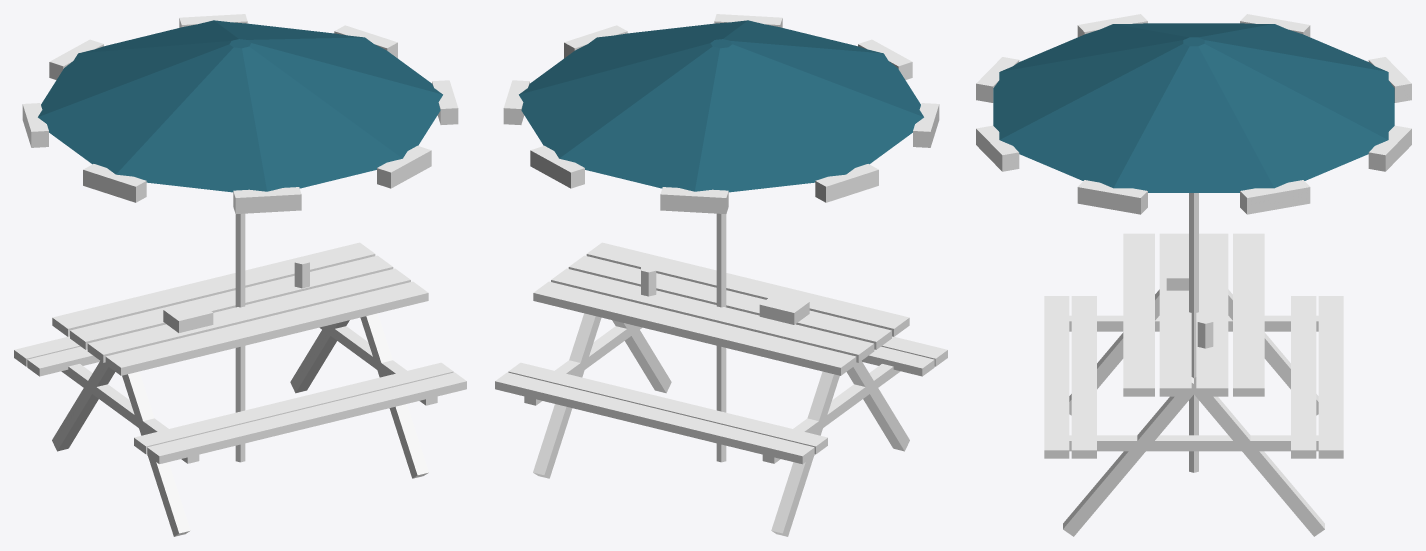
File: decor_picnic.obj
3 views of the same model, side by side, from view 1: azimuth 30°, elevation 25°; view 2: azimuth 150°, elevation 25°; view 3: azimuth 270°, elevation 25° (orthographic). The views are drawn at different scales.
Parts seen in each view (by area): view 1: Body; view 2: Body; view 3: Body.
Boxes of the visible parts, left/top/right/bottom form: Body: left=14, top=14, right=466, bottom=536; Body: left=495, top=14, right=947, bottom=536; Body: left=976, top=14, right=1411, bottom=536.
Bounding box in the file's own units: 1.91 × 2.09 × 1.91.
